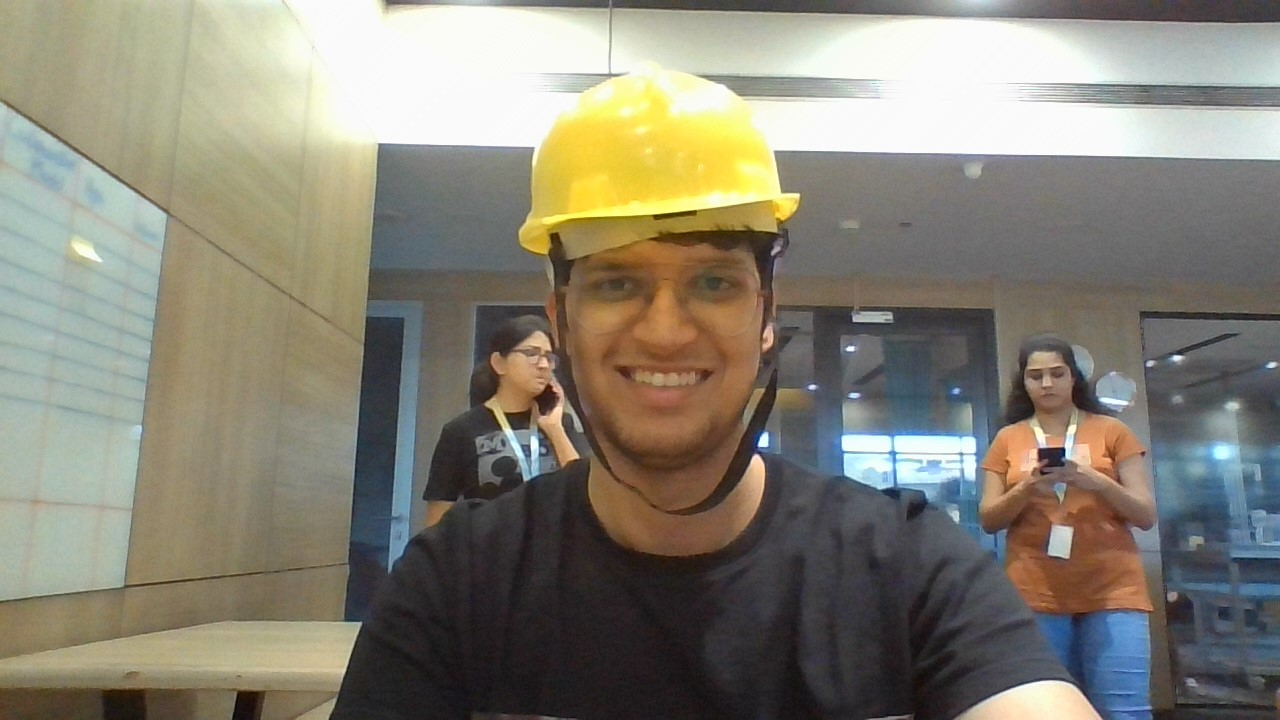Person_wearing_helmet: (502, 56, 789, 319)
